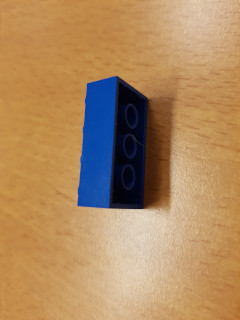2x4 blue: (74, 73, 146, 212)
